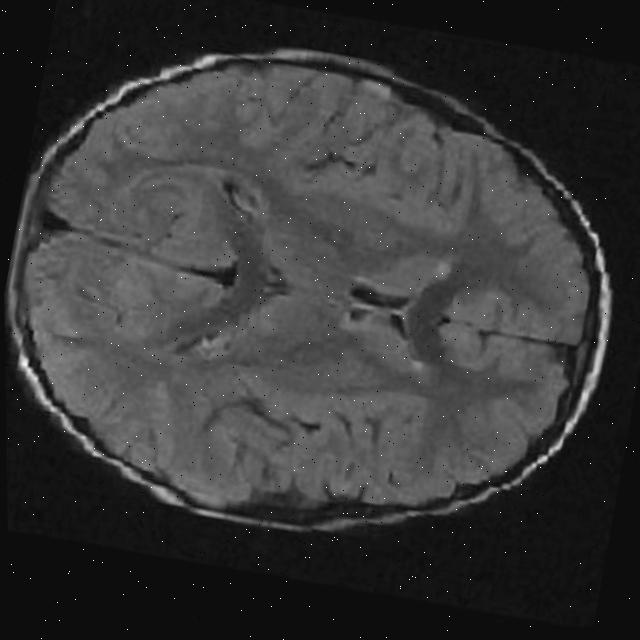NoTumor: (0, 5, 635, 581)
